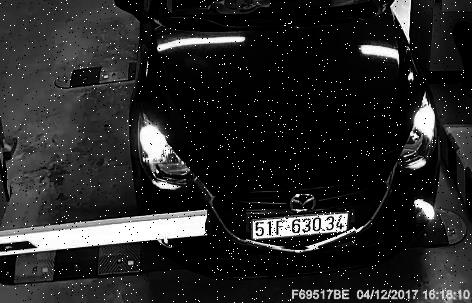License-plate: (248, 211, 358, 250)
